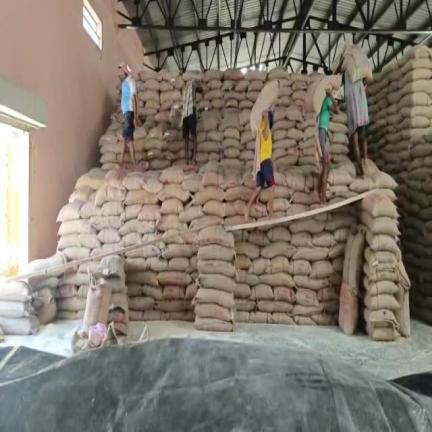Zone-Counting: (244, 80, 280, 219), (305, 76, 341, 200), (336, 47, 369, 176)
